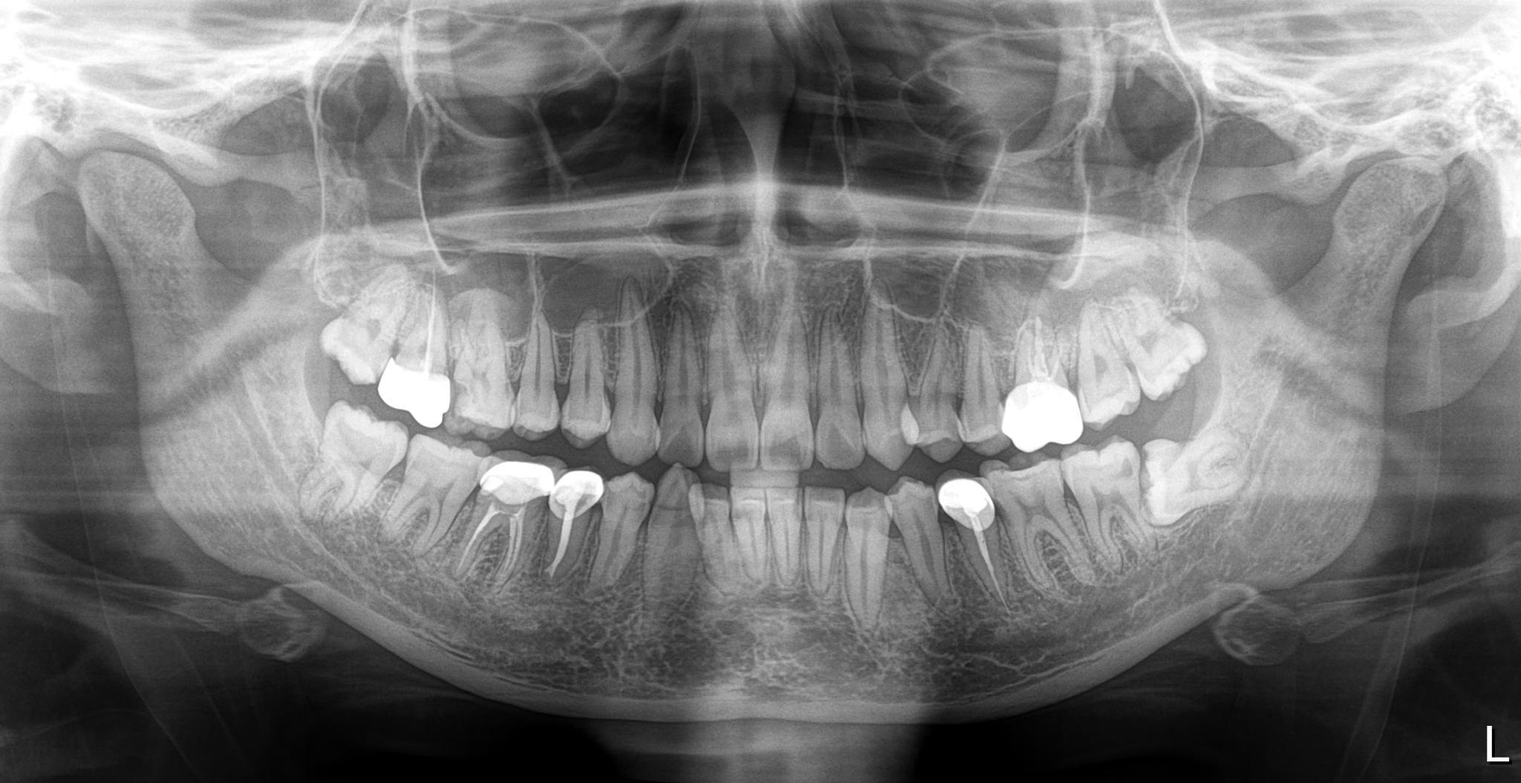Endodontically Treated Tooth: (939, 479, 1012, 607), (377, 305, 457, 420), (483, 462, 544, 586), (1017, 327, 1079, 443), (553, 468, 602, 598)
Impacted Third Molar: (1142, 442, 1251, 521)
